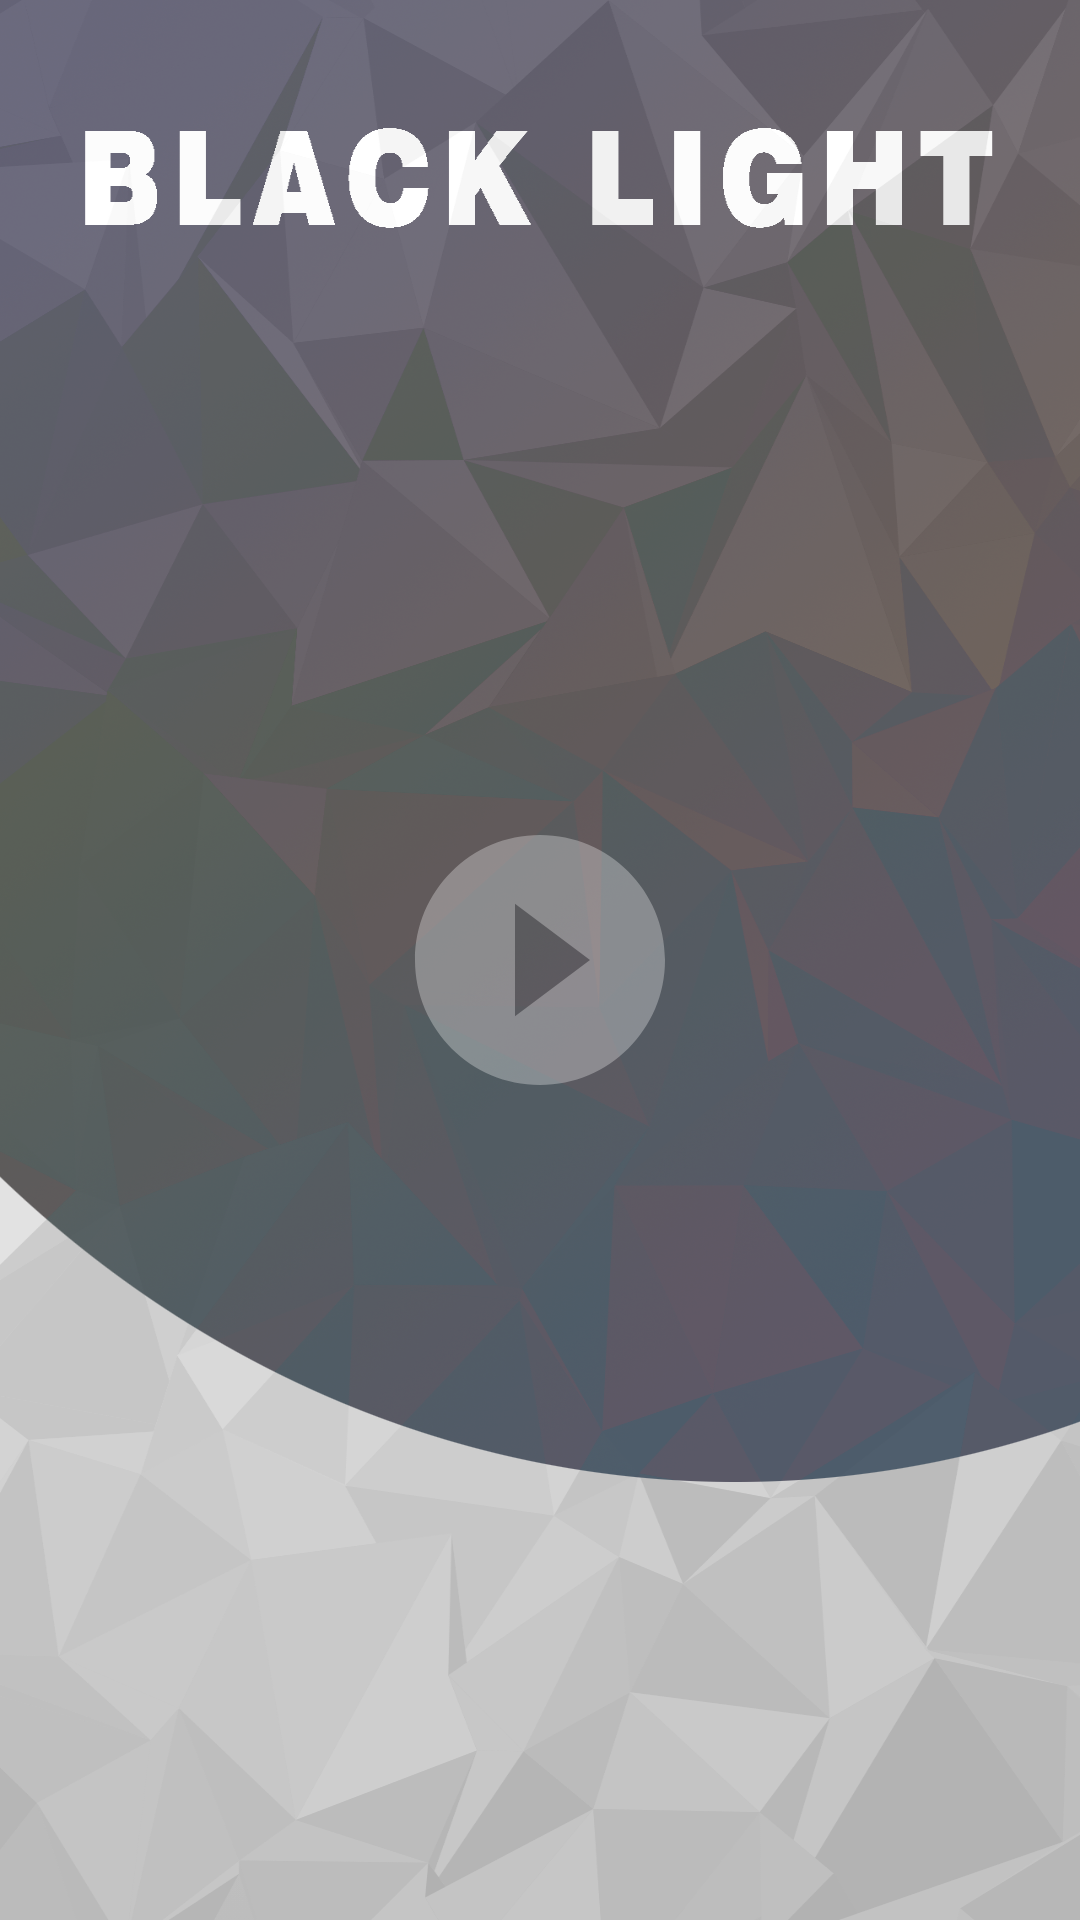

Locate icon controls on the screen. Image size 1080×1920, boxes as [left=x1, top=y1, right=x2, bottom=y2].
play: [left=415, top=835, right=665, bottom=1085]
